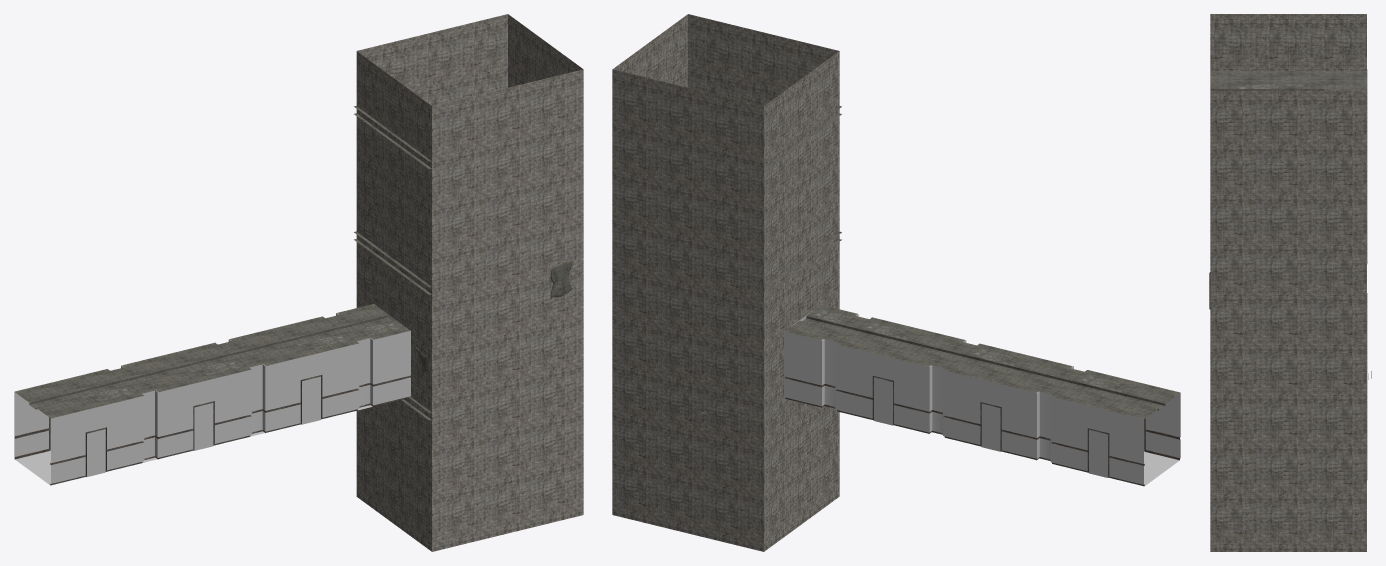
The model's file is hotel.fbx.
3 views of the same model, side by side, from view 1: azimuth 30°, elevation 25°; view 2: azimuth 150°, elevation 25°; view 3: azimuth 270°, elevation 25° (orthographic). The views are drawn at different scales.
Parts seen in each view (by area): view 1: Cylinder_034; view 2: Cylinder_034; view 3: Cylinder_034.
Part boxes in pixels (x1=…): Cylinder_034: x1=14, y1=14, x2=583, y2=551; Cylinder_034: x1=612, y1=14, x2=1180, y2=551; Cylinder_034: x1=1209, y1=14, x2=1371, y2=551.
Size of the model in its own units: 143 by 119 by 38.03.
